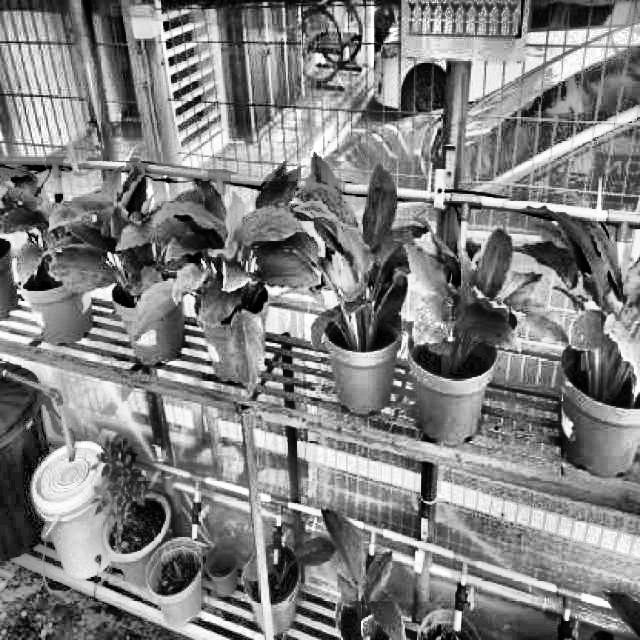plants: (132, 160, 322, 398), (294, 148, 430, 356), (516, 206, 638, 400), (395, 227, 568, 353), (65, 174, 202, 323), (0, 158, 142, 292)
